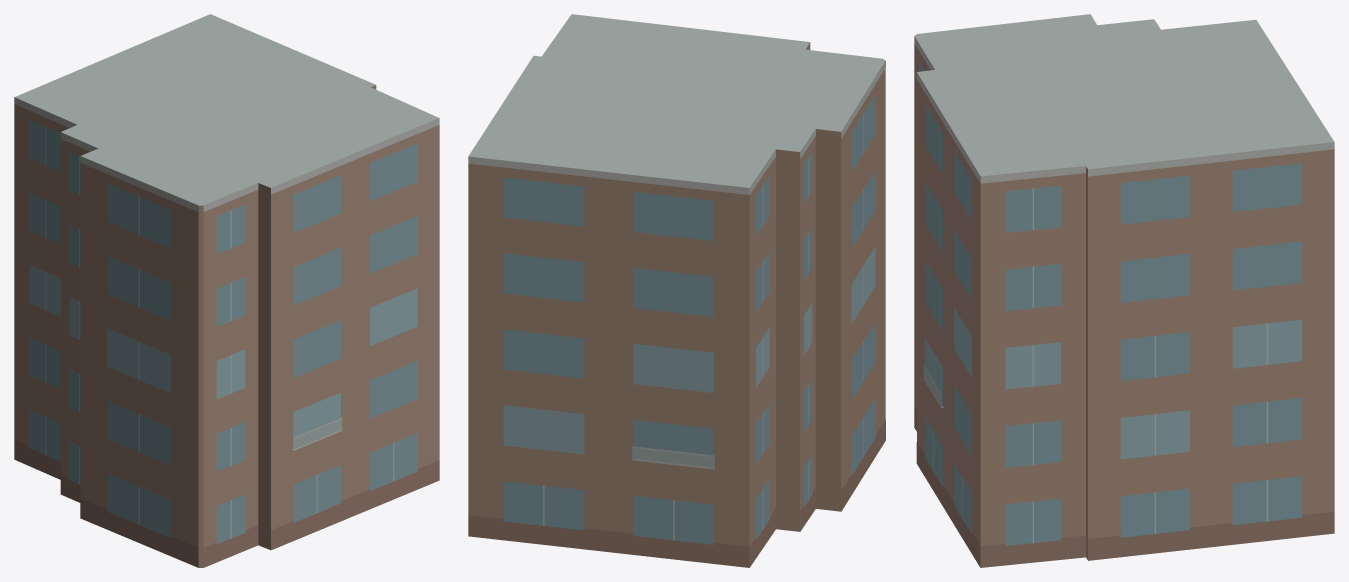
Rendered from survey-upis-33037519.glb.
3 views of the same model, side by side, from view 1: azimuth 30°, elevation 25°; view 2: azimuth 150°, elevation 25°; view 3: azimuth 270°, elevation 25° (orthographic). The views are drawn at different scales.
Visible parts, largest first — view 1: survey-upis-33037519.tmp; view 2: survey-upis-33037519.tmp; view 3: survey-upis-33037519.tmp.
Boxes of the visible parts, x1,y1,x2,y2 form: survey-upis-33037519.tmp: (14,14,439,567); survey-upis-33037519.tmp: (468,14,885,567); survey-upis-33037519.tmp: (914,14,1334,567).
Bounding box in the file's own units: 11.76 × 13.2 × 12.85.
